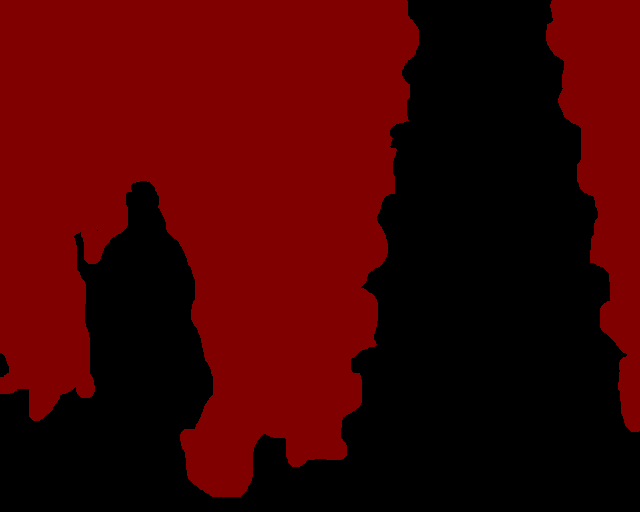Sky: (1, 1, 639, 496)
